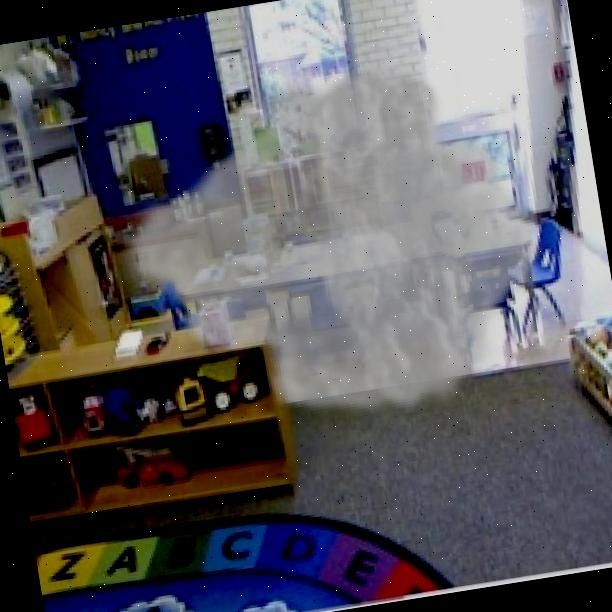smoke: (96, 35, 568, 459)
